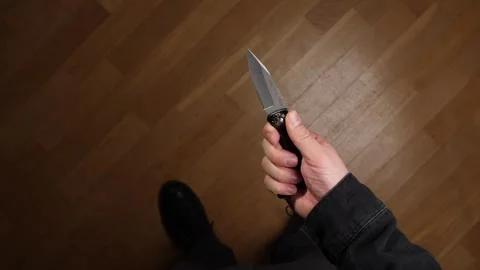Knife: (261, 103, 447, 270), (257, 106, 349, 221), (243, 45, 312, 192)
